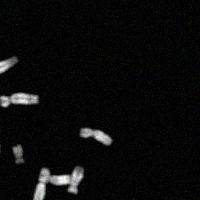chromosome: (79, 127, 112, 146), (33, 168, 50, 200), (0, 93, 38, 107), (0, 56, 18, 83), (68, 166, 83, 194), (40, 174, 70, 185), (12, 145, 24, 165)
